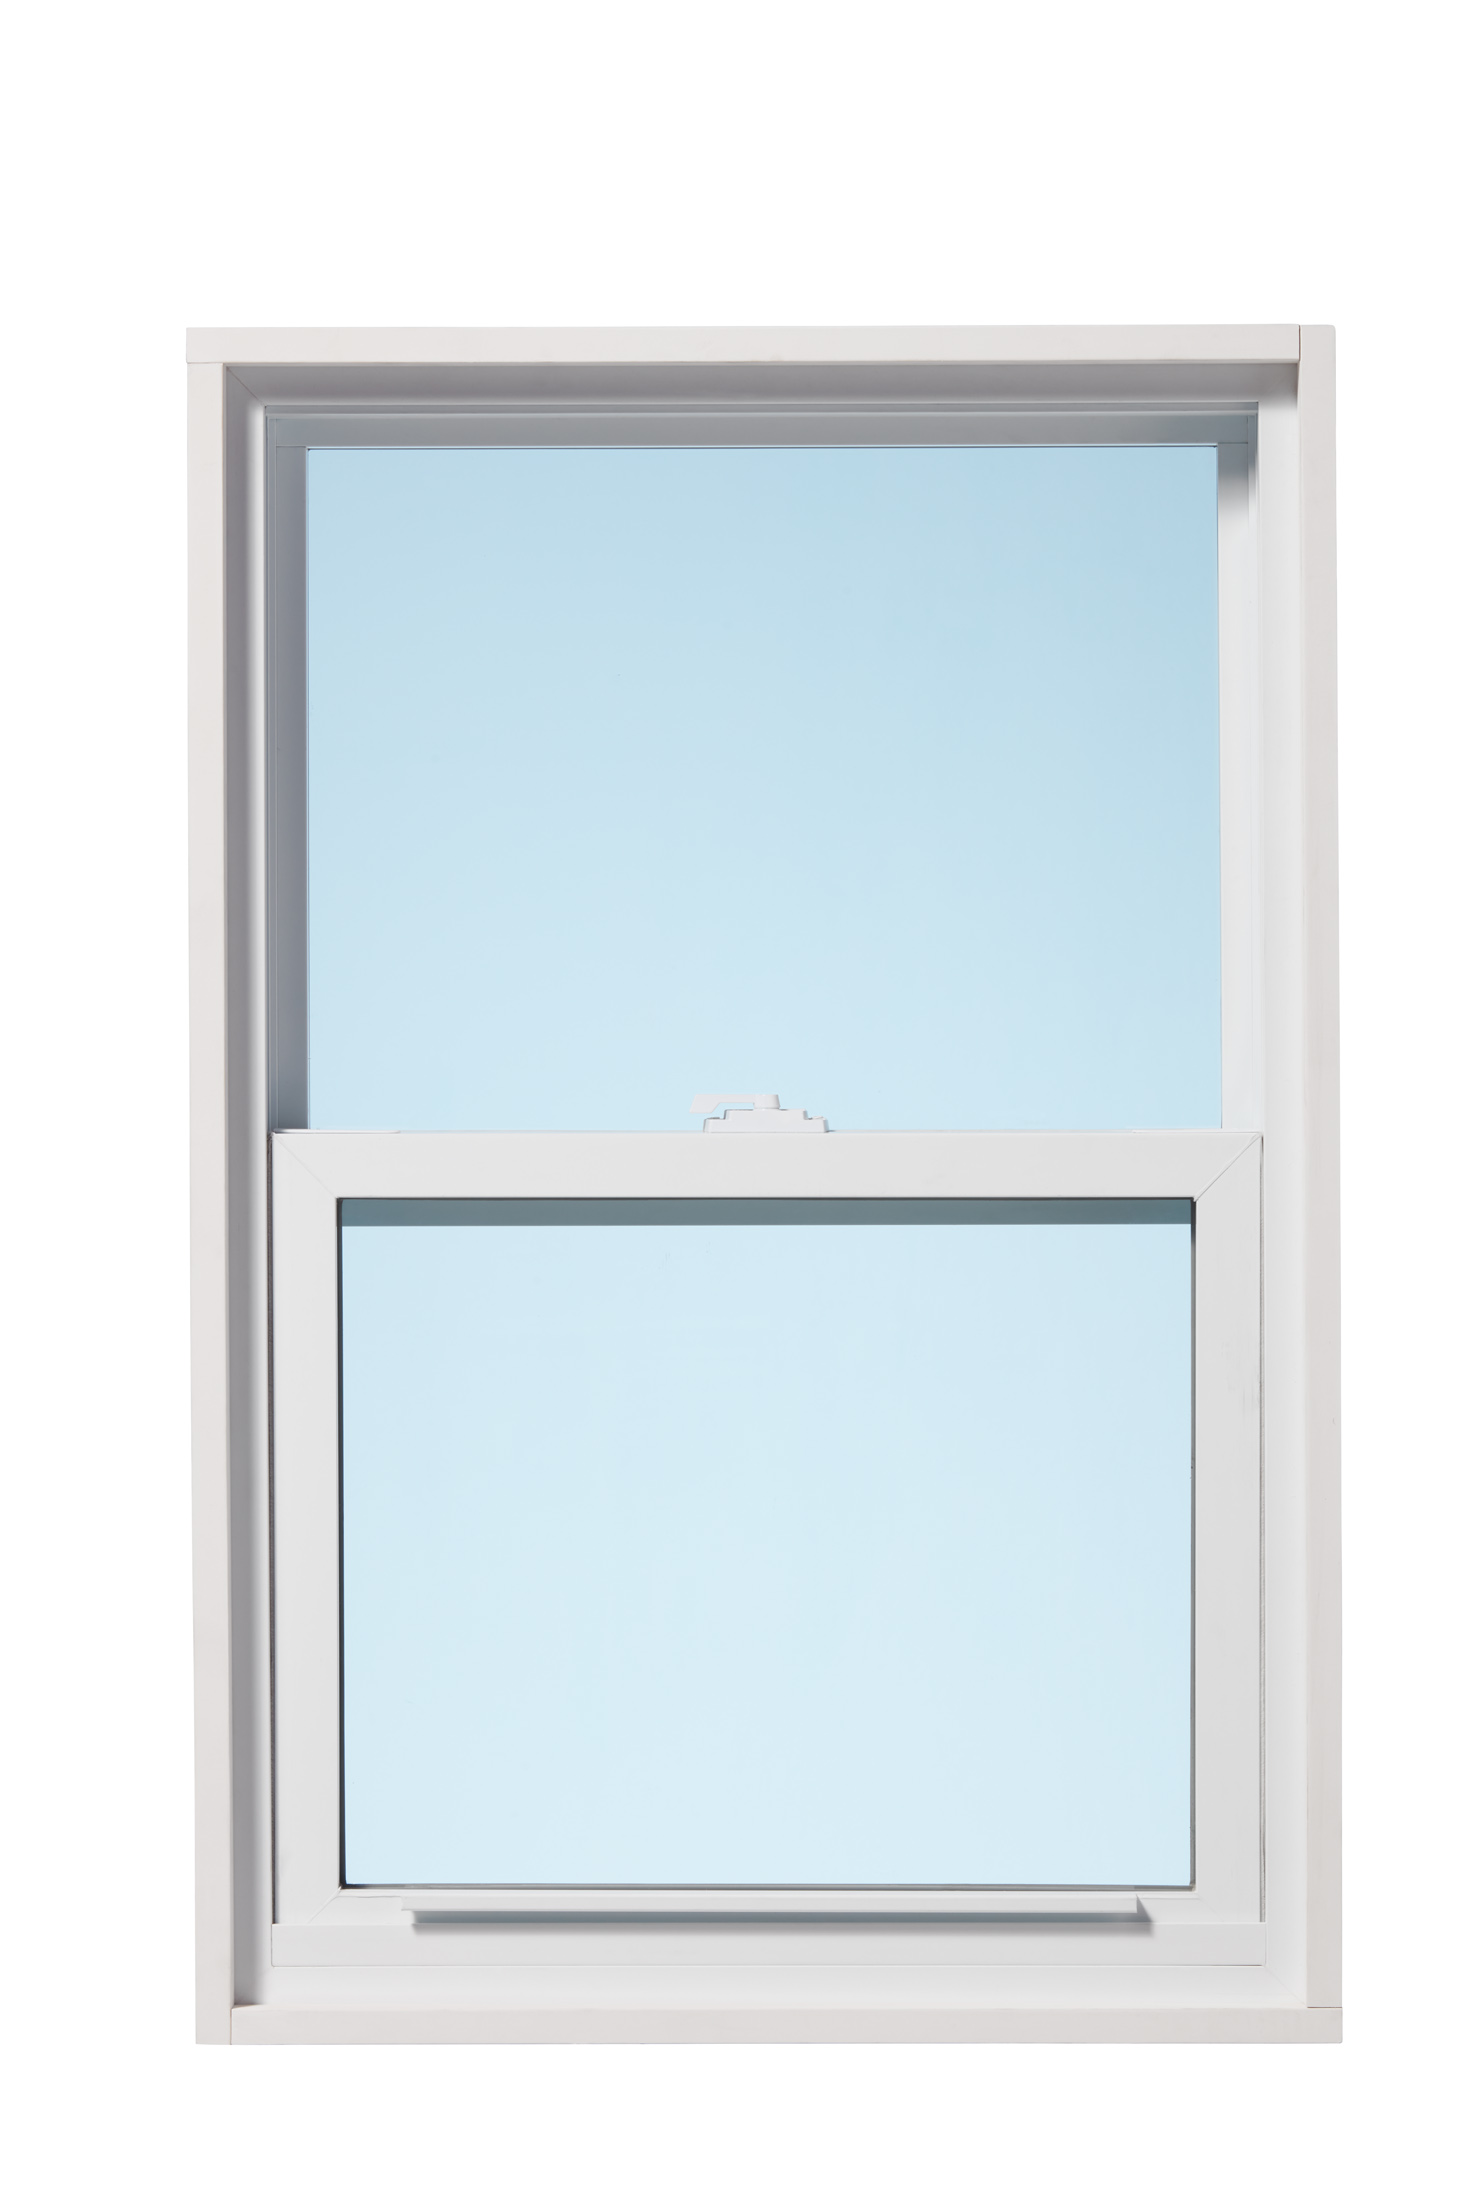Window: (183, 332, 1344, 2049)
